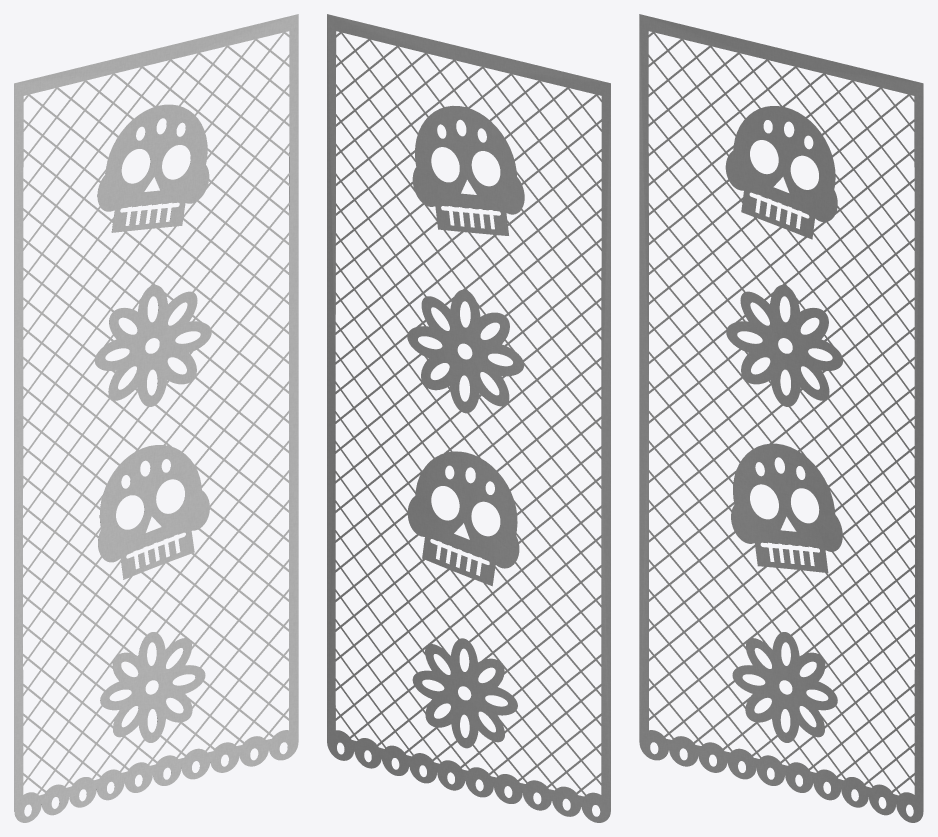
File: papel_10.gltf
3 renders of one model, left to right at view 1: azimuth 30°, elevation 25°; view 2: azimuth 150°, elevation 25°; view 3: azimuth 330°, elevation 25°, orthographic.
Parts seen in each view (by area): view 1: papel_10; view 2: papel_10; view 3: papel_10.
Boxes of the visible parts, x1,y1,x2,y2 form: papel_10: (14,14,298,822); papel_10: (327,14,610,822); papel_10: (639,14,923,822).
Size of the model in its own units: 0.3 by 0.75 by 0.00915.
Materials: 1 (1 with a texture image).
